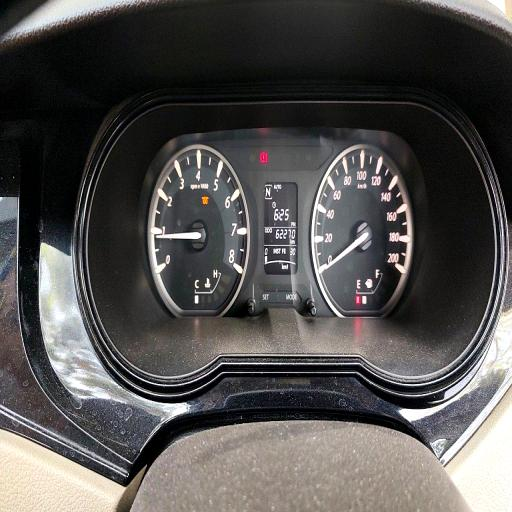brake_system_fault: (260, 152, 268, 164)
tachometer: (149, 142, 250, 316)
